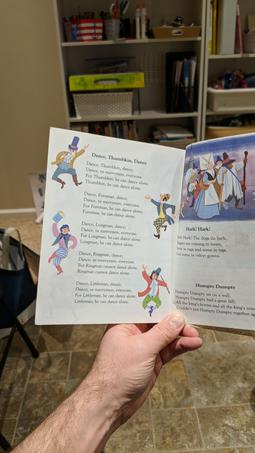text block: (73, 145, 153, 312), (171, 276, 255, 323), (171, 220, 237, 260)
